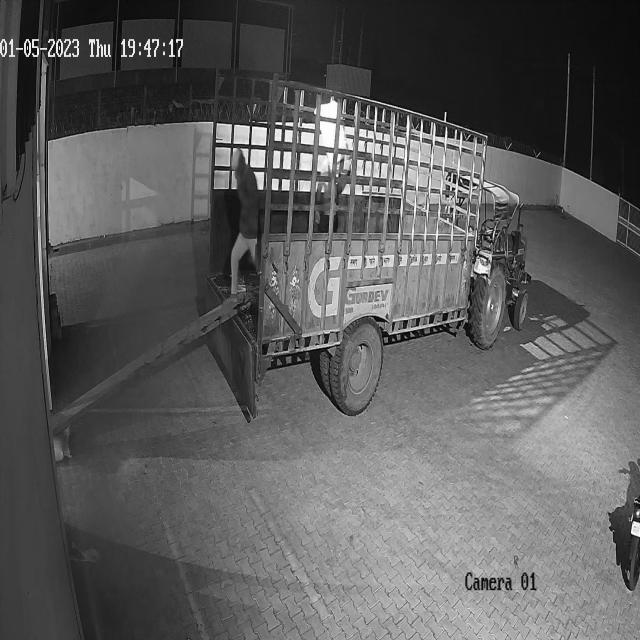sack: (313, 102, 348, 172)
